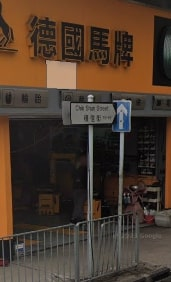One Way Traffic: (111, 99, 133, 134)
